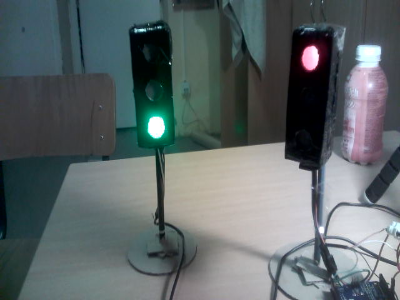trafficlight_green: (137, 28, 174, 144)
trafficlight_red: (290, 28, 333, 159)
